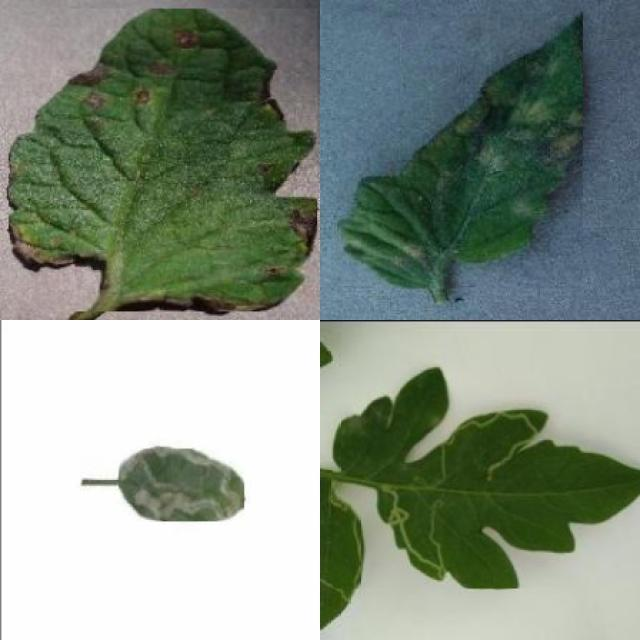Early Blight: (8, 8, 318, 312)
Leaf Miner: (333, 363, 640, 588), (119, 448, 245, 522)
Leaf Mold: (337, 12, 583, 288)
